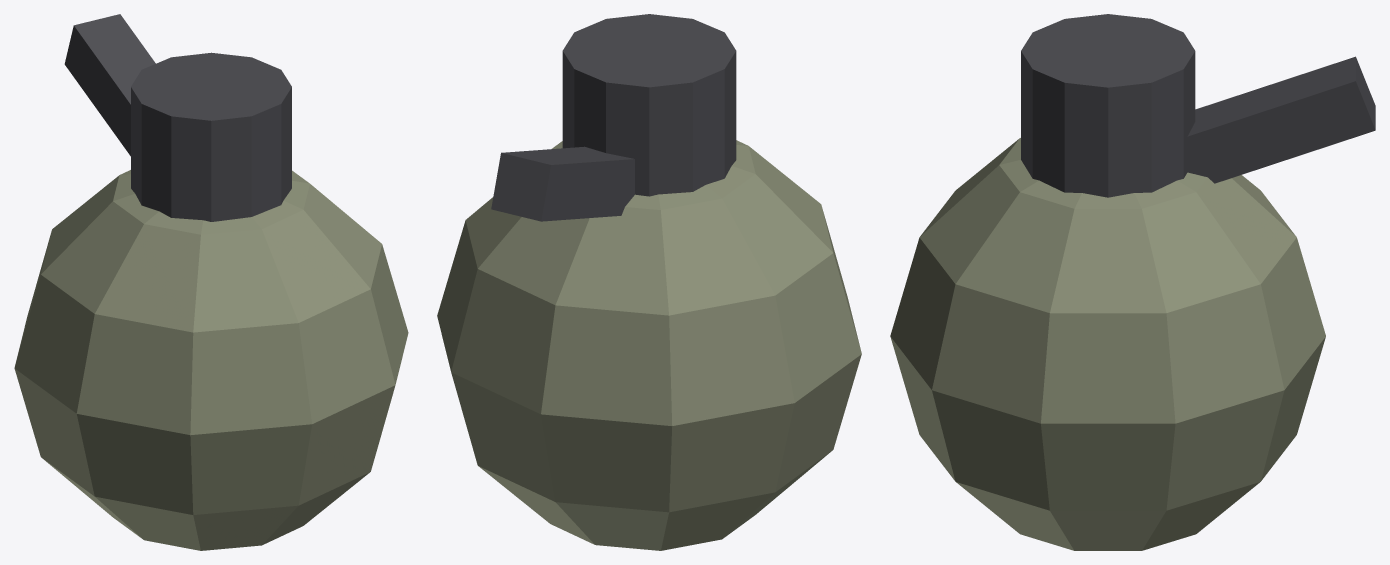
The model's file is frag_grenade.glb.
3 renders of one model, left to right at view 1: azimuth 30°, elevation 25°; view 2: azimuth 150°, elevation 25°; view 3: azimuth 270°, elevation 25°, orthographic. The views are drawn at different scales.
Visible parts, largest first — view 1: FragGrenade; view 2: FragGrenade; view 3: FragGrenade.
Boxes of the visible parts, x1,y1,x2,y2 form: FragGrenade: [14, 14, 408, 550]; FragGrenade: [437, 14, 861, 550]; FragGrenade: [890, 14, 1375, 550].
Size of the model in its own units: 0.0856 by 0.11 by 0.1002.
